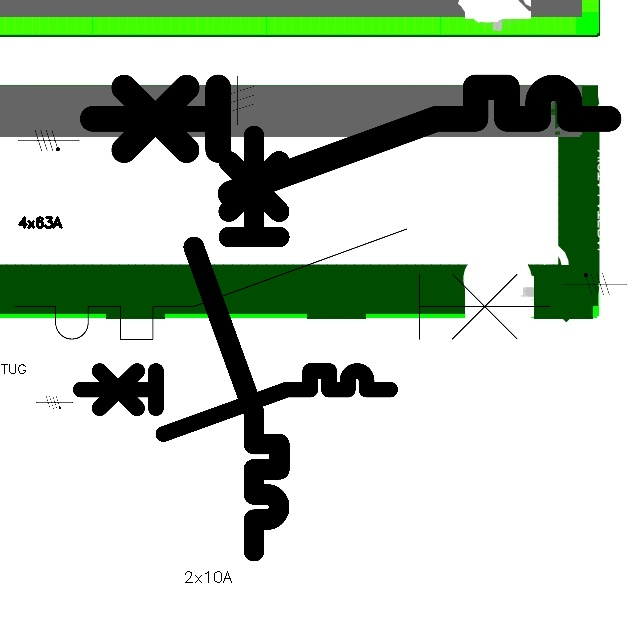interruptor_termomagnetico: (1, 215, 563, 353), (79, 74, 622, 207), (183, 125, 290, 562), (72, 363, 397, 442)
